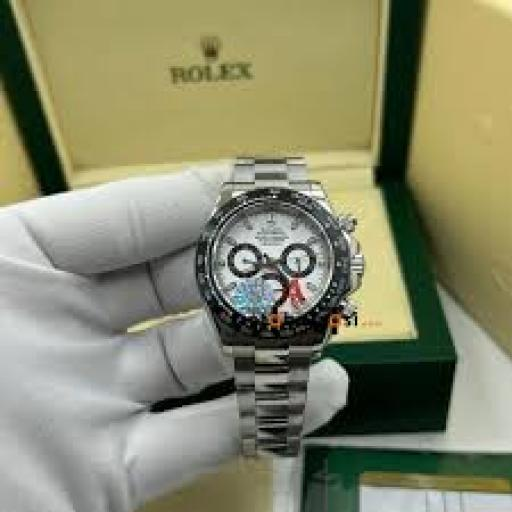KolSaati: (188, 141, 365, 464)
